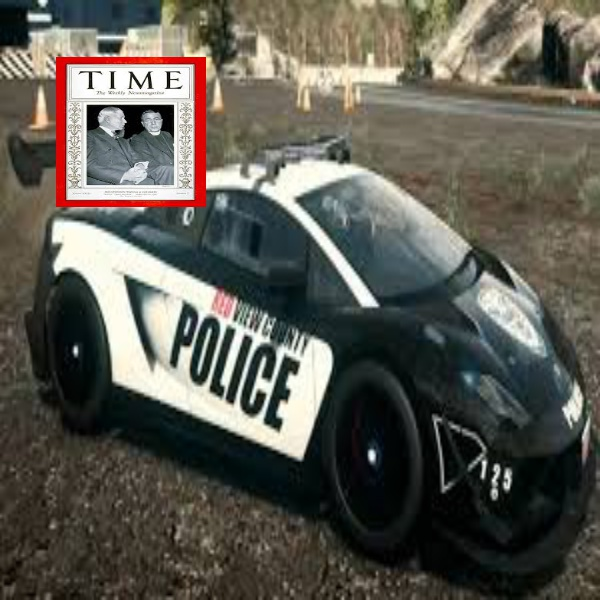time_cover: (54, 42, 206, 214)
